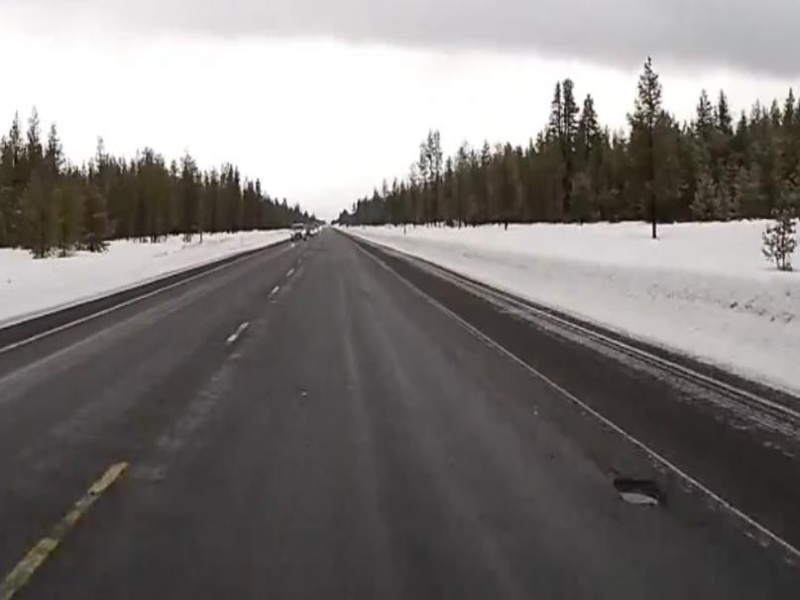pothole: (601, 473, 671, 510)
